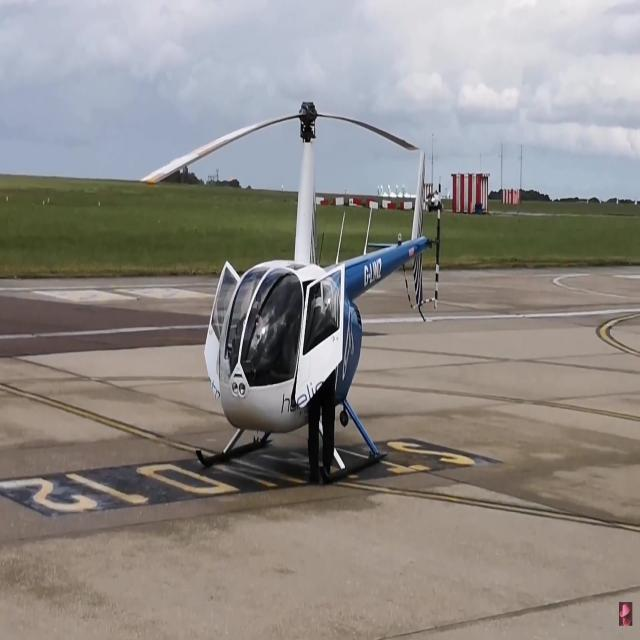CIV_HELO: (193, 98, 436, 492)
